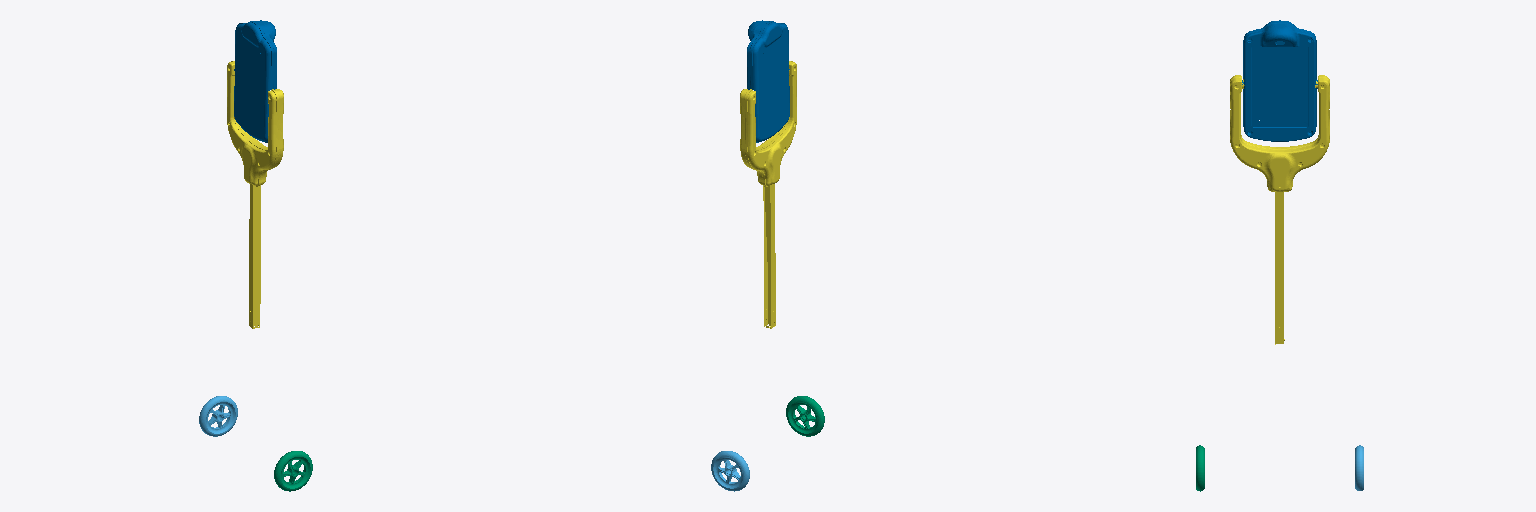
robot.urdf — teresa_robot:
<?xml version="1.0" ?>
<!-- =================================================================================== -->
<!-- |    This document was autogenerated by xacro from teresa_robot.urdf.xacro        | -->
<!-- |    EDITING THIS FILE BY HAND IS NOT RECOMMENDED                                 | -->
<!-- =================================================================================== -->
<robot name="teresa_robot" xmlns:xacro="http://www.ros.org/wiki/xacro">
  <gazebo reference="base_link">
    <mu1>0.0</mu1>
    <mu2>0.0</mu2>
    <material>Gazebo/Blue</material>
  </gazebo>
  <gazebo reference="left_wheel_link">
    <!--fdir1 value="1 0 0"/-->
    <mu1>1.0</mu1>
    <mu2>1.0</mu2>
    <kp>1000000.0</kp>
    <kd>100.0</kd>
    <minDepth>0.001</minDepth>
    <maxVel>1.0</maxVel>
    <material>Gazebo/Black</material>
  </gazebo>
  <gazebo reference="right_wheel_link">
    <!--fdir1 value="1 0 0"/-->
    <mu1>1.0</mu1>
    <mu2>1.0</mu2>
    <kp>1000000.0</kp>
    <kd>100.0</kd>
    <minDepth>0.001</minDepth>
    <maxVel>1.0</maxVel>
    <material>Gazebo/Black</material>
  </gazebo>
  <gazebo reference="front_wheel_link">
    <!--fdir1 value="1 0 0"/-->
    <mu1>0.0</mu1>
    <mu2>0.0</mu2>
    <kp>1000000.0</kp>
    <kd>100.0</kd>
    <minDepth>0.001</minDepth>
    <maxVel>1.0</maxVel>
    <material>Gazebo/Black</material>
  </gazebo>  
  <gazebo reference="back_wheel_link">
    <!--fdir1 value="1 0 0"/-->
    <mu1>0.0</mu1>
    <mu2>0.0</mu2>
    <kp>1000000.0</kp>
    <kd>100.0</kd>
    <minDepth>0.001</minDepth>
    <maxVel>1.0</maxVel>
    <material>Gazebo/Black</material>
  </gazebo>
  <gazebo reference="giraff_head">
    <mu1>1.0</mu1>
    <mu2>0.0</mu2>
    <material>Gazebo/Blue</material>
  </gazebo>
  <gazebo>
    <plugin filename="libgazebo_ros_control.so" name="gazebo_ros_control">
      <robotNamespace>/teresa_robot</robotNamespace>
      <robotSimType>gazebo_ros_control/DefaultRobotHWSim</robotSimType>
    </plugin>
  </gazebo>
  <!--gazebo>
    <plugin name="differential_drive_controller" filename="libgazebo_ros_diff_drive.so">
      <alwaysOn>true</alwaysOn>
      <updateRate>30</updateRate>
      <leftJoint>body_to_right_wheel_joint</leftJoint>
      <rightJoint>body_to_left_wheel_joint</rightJoint>
      <wheelSeparation>0.504</wheelSeparation>
      <wheelDiameter>0.145</wheelDiameter>
      <torque>20</torque>
      <commandTopic>cmd_vel</commandTopic>
      <odometryTopic>odom</odometryTopic>
      <odometryFrame>odom</odometryFrame>
      <robotBaseFrame>base_link</robotBaseFrame>
    </plugin>
  </gazebo-->
  <gazebo>
    <plugin filename="libgazebo_ros_p3d.so" name="odometry">
      <alwaysOn>true</alwaysOn>
      <frameName>map</frameName>
      <bodyName>base_link</bodyName>
      <topicName>/odom</topicName>
     <gaussianNoise>0.001</gaussianNoise>
      <updateRate>30.0</updateRate>
    </plugin>
  </gazebo>
  <gazebo reference="laserfront">
    <sensor name="hokuyo_front_sensor" type="ray">
      <pose>0 0 0 0 0 0</pose>
      <visualize>false</visualize>
      <update_rate>40</update_rate>
      <ray>
        <scan>
          <horizontal>
            <samples>720</samples>
            <resolution>1</resolution>
            <min_angle>-1.570796</min_angle>
            <max_angle>1.570796</max_angle>
          </horizontal>
        </scan>
        <range>
          <min>0.10</min>
          <max>4.0</max>
          <resolution>0.01</resolution>
        </range>
        <noise>
          <type>gaussian</type>
          <mean>0.0</mean>
          <stddev>0.01</stddev>
        </noise>
      </ray>
      <plugin filename="libgazebo_ros_laser.so" name="gazebo_ros_head_hokuyo_controller">
        <topicName>/scanfront</topicName>
        <frameName>laserfront</frameName>
      </plugin>
    </sensor>
  </gazebo>
  <gazebo reference="laserback">
    <sensor name="hokuyo_back_sensor" type="ray">
      <pose>0 0 0 0 0 0</pose>
      <visualize>false</visualize>
      <update_rate>40</update_rate>
      <ray>
        <scan>
          <horizontal>
            <samples>720</samples>
            <resolution>1</resolution>
            <min_angle>-1.570796</min_angle>
            <max_angle>1.570796</max_angle>
          </horizontal>
        </scan>
        <range>
          <min>0.10</min>
          <max>4.0</max>
          <resolution>0.01</resolution>
        </range>
        <noise>
          <type>gaussian</type>
          <mean>0.0</mean>
          <stddev>0.01</stddev>
        </noise>
      </ray>
      <plugin filename="libgazebo_ros_laser.so" name="gazebo_ros_head_hokuyo_controller">
        <topicName>/scanback</topicName>
        <frameName>laserback</frameName>
      </plugin>
    </sensor>
  </gazebo>
  <!-- camera -->
  <gazebo reference="head_camera">
    <sensor name="head_camera" type="camera">
      <update_rate>30.0</update_rate>
      <camera name="head_camera">
        <horizontal_fov>1.3962634</horizontal_fov>
        <image>
          <width>800</width>
          <height>800</height>
          <format>R8G8B8</format>
        </image>
        <clip>
          <near>0.02</near>
          <far>300</far>
        </clip>
        <noise>
          <type>gaussian</type>
          <mean>0.0</mean>
          <stddev>0.007</stddev>
        </noise>
      </camera>
      <plugin filename="libgazebo_ros_camera.so" name="camera_controller">
        <alwaysOn>true</alwaysOn>
        <updateRate>0.0</updateRate>
        <cameraName>rrbot/camera1</cameraName>
        <imageTopicName>image_raw</imageTopicName>
        <cameraInfoTopicName>camera_info</cameraInfoTopicName>
        <frameName>camera_link</frameName>
        <hackBaseline>0.07</hackBaseline>
        <distortionK1>0.0</distortionK1>
        <distortionK2>0.0</distortionK2>
        <distortionK3>0.0</distortionK3>
        <distortionT1>0.0</distortionT1>
        <distortionT2>0.0</distortionT2>
      </plugin>
    </sensor>
  </gazebo>
  <material name="black">
    <color rgba="0.0 0.0 0.0 1.0"/>
  </material>
  <material name="blue">
    <color rgba="0.0 0.0 0.8 1.0"/>
  </material>
  <material name="green">
    <color rgba="0.0 0.8 0.0 1.0"/>
  </material>
  <material name="grey">
    <color rgba="0.2 0.2 0.2 1.0"/>
  </material>
  <material name="orange">
    <color rgba="1.0 0.423529411765 0.0392156862745 1.0"/>
  </material>
  <material name="brown">
    <color rgba="0.870588235294 0.811764705882 0.764705882353 1.0"/>
  </material>
  <material name="red">
    <color rgba="0.8 0.0 0.0 1.0"/>
  </material>
  <material name="white">
    <color rgba="1.0 1.0 1.0 1.0"/>
  </material>
  <link name="base_link">
    <collision>
      <origin rpy="0 0 -1.57079632679" xyz="0.0 0.0 0.336"/>
      <geometry>
        <mesh filename="package://teresa_gazebo/meshes/teresa_body.dae" scale="0.1 0.1 0.1"/>
      </geometry>
    </collision>
    <visual>
      <origin rpy="0 0 -1.57079632679" xyz="0.0 0.0 0.336"/>
      <geometry>
        <mesh filename="package://teresa_gazebo/meshes/teresa_body.dae" scale="0.1 0.1 0.1"/>
      </geometry>
      <material name="blue"/>
    </visual>
    <inertial>
      <origin rpy="0.0 0.0 0.0" xyz="0.0 0.0 0.336"/>
      <mass value="10.0"/>
      <inertia ixx="1.0" ixy="0.0" ixz="0.0" iyy="1.0" iyz="0.0" izz="1.0"/>
    </inertial>
  </link>
  <link name="left_wheel_link">
    <visual>
      <origin rpy="0 0 1.57079632679" xyz="0.0 0.0 0.0"/>
      <geometry>
        <mesh filename="package://teresa_gazebo/meshes/teresa_wheel.dae" scale="0.1 0.1 0.1"/>
      </geometry>
    </visual>
    <collision>
      <origin rpy="0 0 1.57079632679" xyz="0.0 0.0 0.0"/>
      <geometry>
        <mesh filename="package://teresa_gazebo/meshes/teresa_wheel.dae" scale="0.1 0.1 0.1"/>
      </geometry>
    </collision>
    <inertial>
      <mass value="0.2"/>
      <origin rpy="0 0 0" xyz="0.0 0.0 0.0"/>
      <inertia ixx="1.0" ixy="0.0" ixz="0.0" iyy="1.0" iyz="0.0" izz="1.0"/>
    </inertial>
  </link>
  <link name="right_wheel_link">
    <visual>
      <origin rpy="0 0 -1.57079632679" xyz="0.0 0.0 0.0"/>
      <geometry>
        <mesh filename="package://teresa_gazebo/meshes/teresa_wheel.dae" scale="0.1 0.1 0.1"/>
      </geometry>
    </visual>
    <collision>
      <origin rpy="0 0 -1.57079632679" xyz="0.0 0.0 0.0"/>
      <geometry>
        <mesh filename="package://teresa_gazebo/meshes/teresa_wheel.dae" scale="0.1 0.1 0.1"/>
      </geometry>
    </collision>
    <inertial>
      <mass value="0.2"/>
      <origin rpy="0 0 0" xyz="0.0 0.0 0.0"/>
      <inertia ixx="1.0" ixy="0.0" ixz="0.0" iyy="1.0" iyz="0.0" izz="1.0"/>
    </inertial>
  </link>
  <link name="giraff_stalk">
    <visual>
      <origin rpy="0 0 -1.57079632679" xyz="0.0 0.0 0.0"/>
      <geometry>
        <mesh filename="package://teresa_gazebo/meshes/teresa_neck.dae" scale="0.1 0.1 0.1"/>
      </geometry>
    </visual>
    <collision>
      <origin rpy="0 0 -1.57079632679" xyz="0.0 0.0 0.0"/>
      <geometry>
        <mesh filename="package://teresa_gazebo/meshes/teresa_neck.dae" scale="0.1 0.1 0.1"/>
      </geometry>
    </collision>
    <inertial>
      <mass value="2.0"/>
      <origin rpy="0 0 0" xyz="0.0 0.0 0.0"/>
      <inertia ixx="1.0" ixy="0.0" ixz="0.0" iyy="1.0" iyz="0.0" izz="1.0"/>
    </inertial>
  </link>
  <link name="giraff_head">
    <visual>
      <origin rpy="0 0 -1.57079632679" xyz="0.0 0.0 0.0"/>
      <geometry>
        <mesh filename="package://teresa_gazebo/meshes/teresa_head.dae" scale="0.1 0.1 0.1"/>
      </geometry>
    </visual>
    <collision>
      <origin rpy="0 0 -1.57079632679" xyz="0.0 0.0 0.0"/>
      <geometry>
        <mesh filename="package://teresa_gazebo/meshes/teresa_head.dae" scale="0.1 0.1 0.1"/>
      </geometry>
    </collision>
    <inertial>
      <mass value="1.0"/>
      <origin rpy="0 0 0" xyz="0.0 0.0 0.0"/>
      <inertia ixx="1.0" ixy="0.0" ixz="0.0" iyy="1.0" iyz="0.0" izz="1.0"/>
    </inertial>
  </link>
  <link name="laserfront">
    <visual>
      <geometry>
        <mesh filename="package://teresa_gazebo/meshes/hokuyo.dae"/>
      </geometry>
    </visual>
    <inertial>
      <mass value="0.1"/>
      <origin xyz="0.0 0.0 0.0"/>
      <inertia ixx="1.0" ixy="0.0" ixz="0.0" iyy="1.0" iyz="0.0" izz="1.0"/>
    </inertial>
  </link>
  <link name="laserback">
    <visual>
      <geometry>
        <mesh filename="package://teresa_gazebo/meshes/hokuyo.dae"/>
      </geometry>
    </visual>
    <inertial>
      <mass value="0.1"/>
      <origin xyz="0.0 0.0 0.0"/>
      <inertia ixx="1.0" ixy="0.0" ixz="0.0" iyy="1.0" iyz="0.0" izz="1.0"/>
    </inertial>
  </link>
  <link name="head_camera">
    <inertial>
      <mass value="0.1"/>
      <origin xyz="0.0 0.0 0.0"/>
      <inertia ixx="1.0" ixy="0.0" ixz="0.0" iyy="1.0" iyz="0.0" izz="1.0"/>
    </inertial>
  </link>
  <link name="xtionPeople_link">
    <visual>
      <geometry>
        <mesh filename="package://teresa_gazebo/meshes/asus_xtion_pro_live.dae" scale="0.001 0.001 0.001"/>
      </geometry>
      <origin rpy="1.57079632679 0 1.57079632679" xyz="0.0 0 0.0"/>
    </visual>
    <inertial>
      <mass value="0.1"/>
      <origin xyz="0.0 0.0 0.0"/>
      <inertia ixx="1.0" ixy="0.0" ixz="0.0" iyy="1.0" iyz="0.0" izz="1.0"/>
    </inertial>
  </link>
  <joint name="body_to_hokuyo_front_joint" type="fixed">
    <parent link="base_link"/>
    <child link="laserfront"/>
    <origin xyz="0.23725 0 0.261"/>
  </joint>
  <joint name="body_to_hokuyo_back_joint" type="fixed">
    <parent link="base_link"/>
    <child link="laserback"/>
    <origin rpy="0 0 3.14159265359" xyz="-0.23725 0 0.261"/>
  </joint>
  <joint name="stalk_to_xtion_people_joint" type="fixed">
    <parent link="giraff_stalk"/>
    <child link="xtionPeople_link"/>
    <origin xyz="0.045 0.0 -0.375"/>
  </joint>
  <joint name="body_to_left_wheel_joint" type="continuous">
    <axis xyz="0 1 0"/>
    <parent link="base_link"/>
    <child link="left_wheel_link"/>
    <origin xyz="0 0.2502 0.0725"/>
  </joint>
  <joint name="body_to_right_wheel_joint" type="continuous">
    <parent link="base_link"/>
    <child link="right_wheel_link"/>
    <origin rpy="0.0 0.0 0.0" xyz="0 -0.2502 0.0725"/>
    <axis xyz="0 1 0"/>
  </joint>
  <joint name="body_to_stalk_joint" type="prismatic">
    <axis xyz="0 0 1"/>
    <parent link="base_link"/>
    <child link="giraff_stalk"/>
    <origin xyz="0 0.0 1.403"/>
    <limit effort="30" lower="-0.2" upper="0.2" velocity="0.2"/>
  </joint>
  <joint name="stalk_to_head_joint" type="revolute">
    <axis xyz="0 1 0"/>
    <parent link="giraff_stalk"/>
    <child link="giraff_head"/>
    <origin xyz="0 0.0 0.0"/>
    <limit effort="30" lower="-0.2" upper="0.15" velocity="0.2"/>
  </joint>
  <joint name="head_to_cam_joint" type="fixed">
    <parent link="giraff_head"/>
    <child link="head_camera"/>
    <origin xyz="0 0 0.261"/>
  </joint>
  <!--transmission name="tran1">
    <type>transmission_interface/SimpleTransmission</type>
    <joint name="body_to_left_wheel_joint">
      <hardwareInterface>VelocityJointInterface</hardwareInterface>
    </joint>
    <actuator name="left_motor">
      <hardwareInterface>VelocityJointInterface</hardwareInterface>
      <mechanicalReduction>100</mechanicalReduction>
    </actuator>
  </transmission-->
  <!--transmission name="tran2">
    <type>transmission_interface/SimpleTransmission</type>
    <joint name="body_to_right_wheel_joint">
      <hardwareInterface>VelocityJointInterface</hardwareInterface>
    </joint>
    <actuator name="right_motor">
      <hardwareInterface>VelocityJointInterface</hardwareInterface>
      <mechanicalReduction>100</mechanicalReduction>
    </actuator>
  </transmission-->
  <transmission name="tran1">
    <type>transmission_interface/SimpleTransmission</type>
    <joint name="stalk_to_head_joint">
      <hardwareInterface>EffortJointInterface</hardwareInterface>
    </joint>
    <actuator name="head_motor">
      <hardwareInterface>EffortJointInterface</hardwareInterface>
      <mechanicalReduction>100</mechanicalReduction>
    </actuator>
  </transmission>
</robot>

--- Facts derived from the render (not from the file) ---
3 views of the same robot in one strip: view 1: azimuth 30°, elevation 25°; view 2: azimuth 150°, elevation 25°; view 3: azimuth 270°, elevation 25° (orthographic).
Model teresa_robot with 9 links and 8 joints (1 revolute, 2 continuous, 1 prismatic, 4 fixed), rooted at base_link, posed every joint at zero.
Links seen in each view (by area): view 1: giraff_stalk, giraff_head, right_wheel_link, left_wheel_link; view 2: giraff_stalk, giraff_head, right_wheel_link, left_wheel_link; view 3: giraff_head, giraff_stalk.
Boxes of the visible links, box(x1,y1,x2,y2) form: giraff_stalk: box(227, 61, 283, 328); giraff_head: box(234, 20, 276, 142); right_wheel_link: box(274, 451, 312, 491); left_wheel_link: box(199, 396, 237, 436); giraff_stalk: box(740, 61, 796, 328); giraff_head: box(747, 20, 789, 142); right_wheel_link: box(786, 396, 824, 436); left_wheel_link: box(711, 451, 749, 491); giraff_head: box(1242, 20, 1317, 141); giraff_stalk: box(1230, 75, 1329, 344).
Bounding box of the posed robot: 0.1451 × 0.5303 × 1.62 m (x, y, z).
4 mesh visuals loaded from 6 distinct referenced files (3 Collada DAE); not drawn: 4 (reference not matched to a file when rendering).
